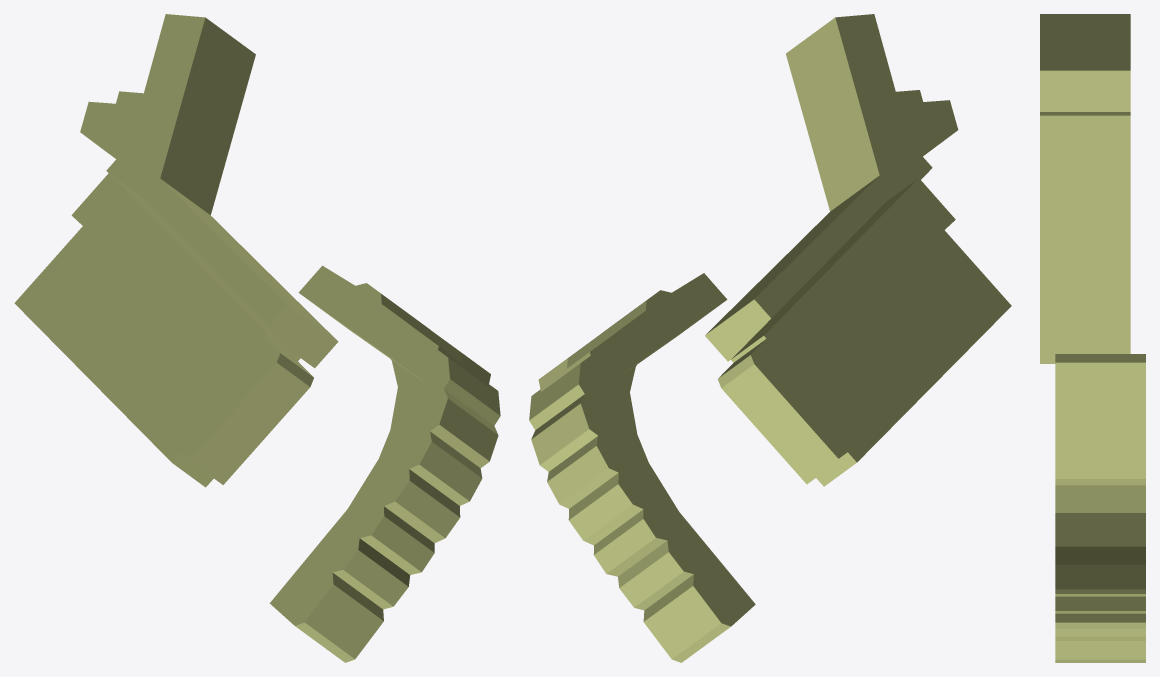
3 views of the same model, side by side, from view 1: azimuth 30°, elevation 25°; view 2: azimuth 150°, elevation 25°; view 3: azimuth 270°, elevation 25° (orthographic). The views are drawn at different scales.
Visible parts, largest first — view 1: 0_0_1_1_2_1_3_2; view 2: 0_0_1_1_2_1_3_2; view 3: 0_0_1_1_2_1_3_2.
Boxes of the visible parts, box(x1,y1,x2,y2) form: 0_0_1_1_2_1_3_2: box(14, 14, 500, 662); 0_0_1_1_2_1_3_2: box(529, 14, 1011, 662); 0_0_1_1_2_1_3_2: box(1040, 14, 1145, 662).
Bounding box in the file's own units: 45.95 × 64.02 × 10.5.
